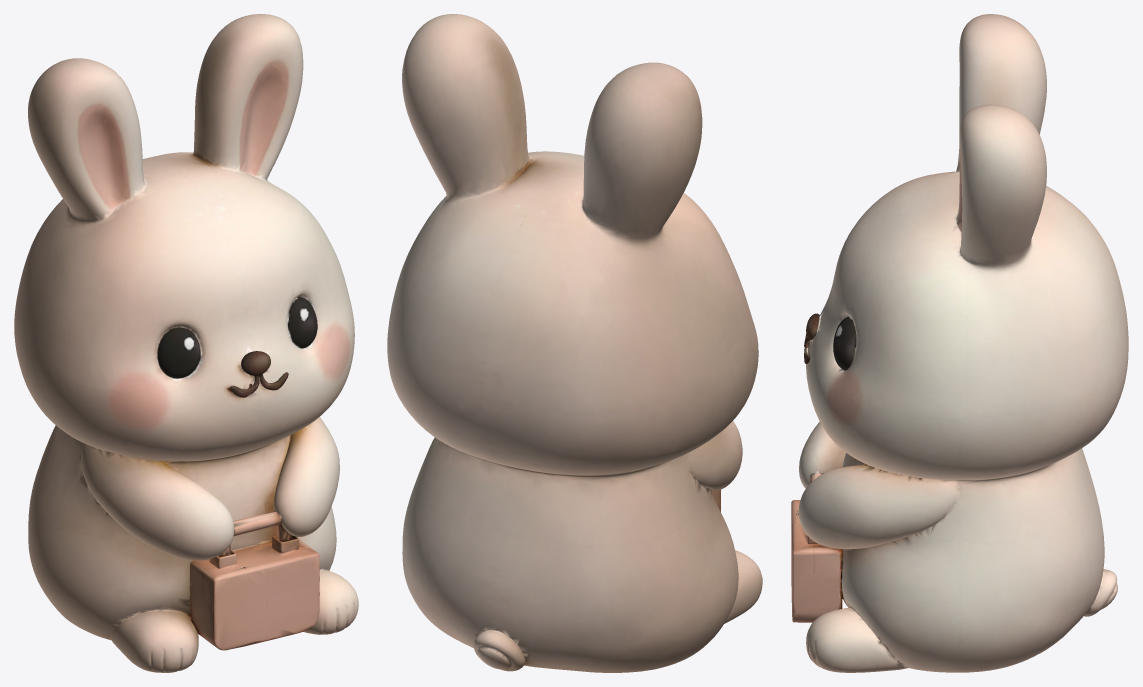
File: model-mobile-v002.glb
3 views of the same model, side by side, from view 1: azimuth 30°, elevation 25°; view 2: azimuth 150°, elevation 25°; view 3: azimuth 270°, elevation 25° (orthographic). The views are drawn at different scales.
Parts seen in each view (by area): view 1: tmp2tdxffcfobj; view 2: tmp2tdxffcfobj; view 3: tmp2tdxffcfobj.
Boxes of the visible parts, x1,y1,x2,y2 form: tmp2tdxffcfobj: (14, 14, 358, 672); tmp2tdxffcfobj: (387, 14, 762, 672); tmp2tdxffcfobj: (791, 14, 1128, 672).
Bounding box in the file's own units: 0.565 × 0.9998 × 0.5457.
1 material, 1 textured.
